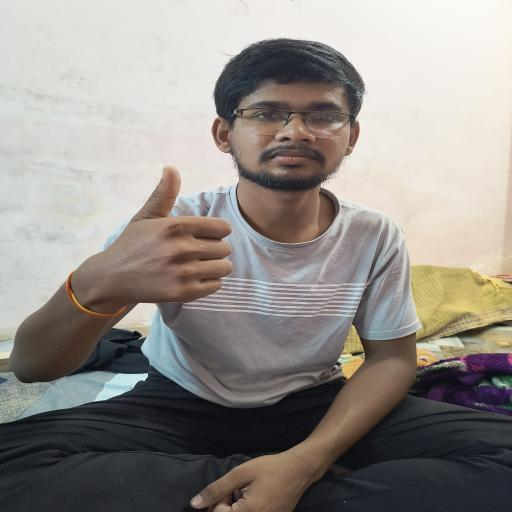Good Morning: (88, 162, 276, 322)
